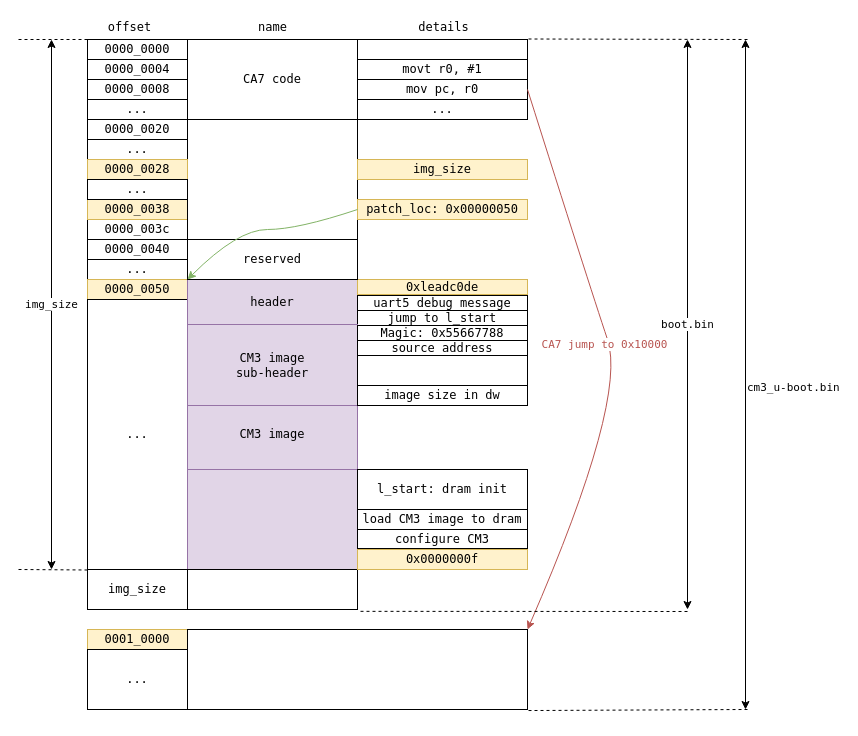
Image size: 858x736. Some labels were removed from this diagram. Each missing label, with the centre of its shape:
destination address: fixed 0x80000000: (x=442, y=370)
movw r0, #0: (x=442, y=49)
ROM code patch on Flash: (x=272, y=519)
secure boot header: (x=272, y=179)
signature: (x=272, y=589)
u-boot image: (x=357, y=669)
